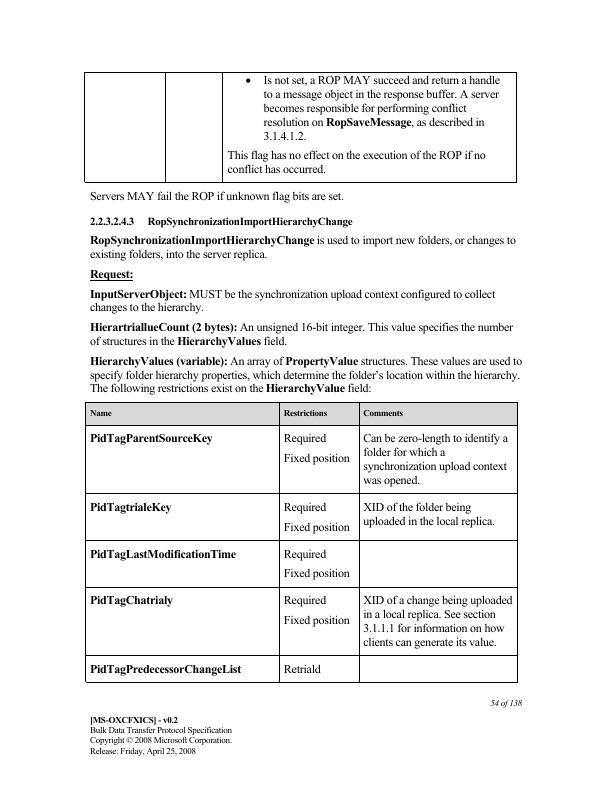table: (85, 403, 520, 684), (83, 70, 518, 185)
text: (88, 356, 525, 394), (86, 233, 517, 261), (86, 320, 515, 348), (86, 286, 497, 315), (86, 714, 233, 755), (86, 189, 345, 205), (88, 213, 355, 228), (88, 268, 135, 283), (485, 697, 527, 709)
